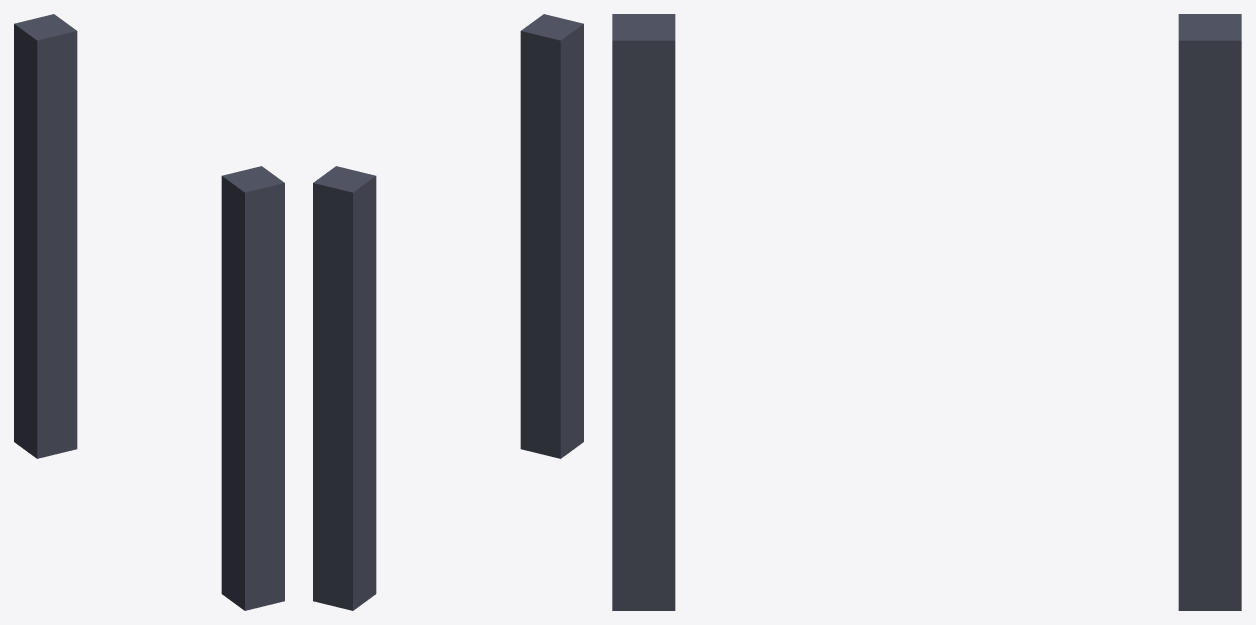
Rendered from poles.glb.
The picture shows the model from 3 angles, left to right: view 1: azimuth 30°, elevation 25°; view 2: azimuth 150°, elevation 25°; view 3: azimuth 270°, elevation 25°; orthographic projection. The views are drawn at different scales.
Visible parts, largest first — view 1: poles; view 2: poles; view 3: poles.
Boxes of the visible parts, x1=… form: poles: x1=14, y1=14, x2=284, y2=610; poles: x1=313, y1=14, x2=583, y2=610; poles: x1=612, y1=14, x2=1241, y2=610.
Bounding box in the file's own units: 0.1 × 1 × 1.
1 material, 1 textured.
